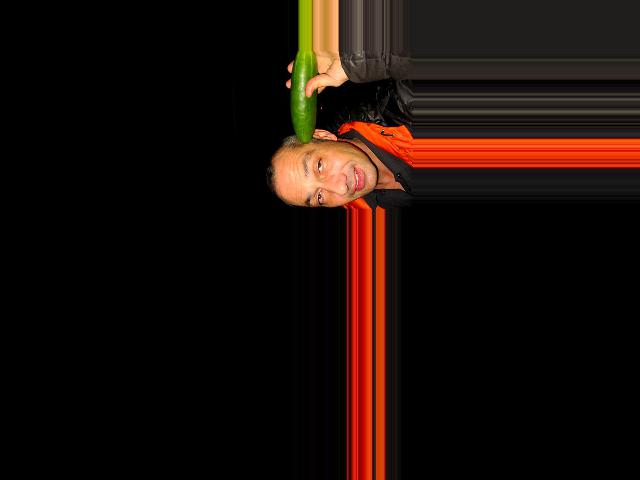cucumber: (290, 50, 317, 144)
